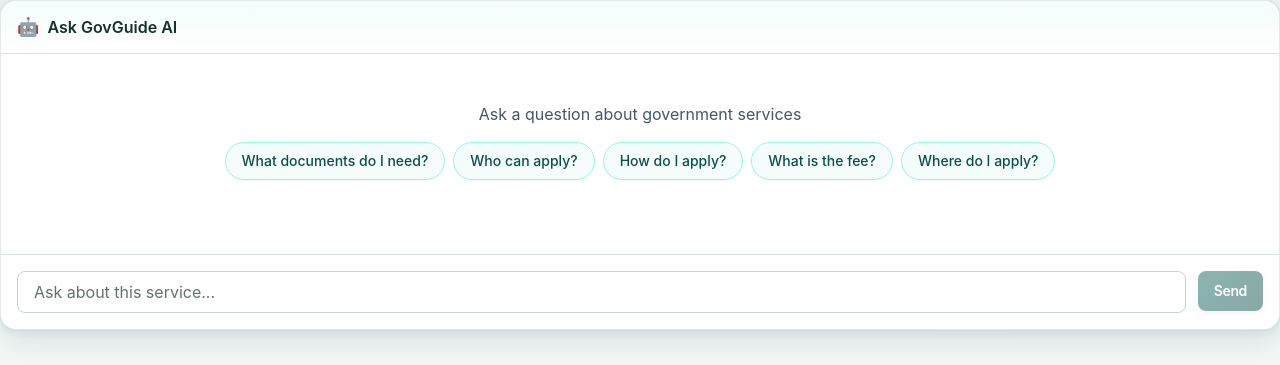
Scenario: AiChat › surfaces the sanitized server error message
Click the button "What is the fee?": (822, 161) x1=751 y1=142 x2=893 y2=180
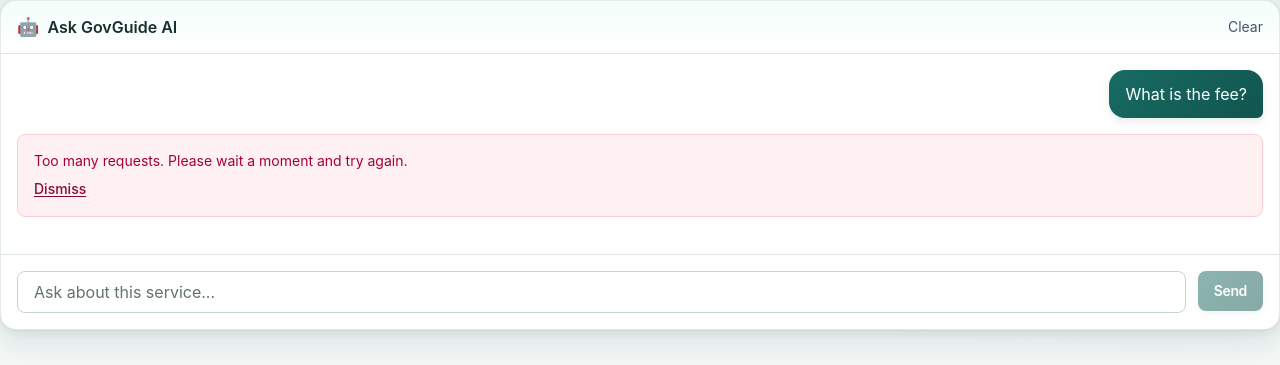
Expected: the message does not show "RATE_LIMIT", x1=17 y1=134 x2=1263 y2=217
Expected: the message shows "Too many requests", x1=34 y1=152 x2=408 y2=169
